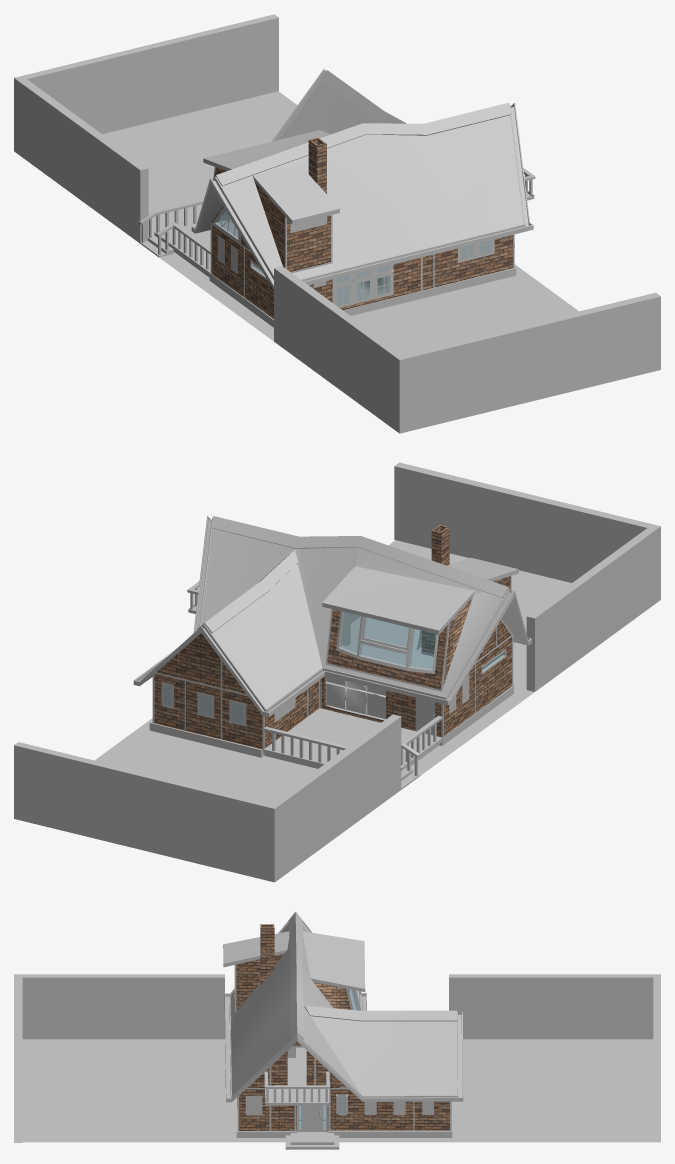
File: House-with-interior-1.FBX
The picture shows the model from 3 angles, top to bottom: view 1: azimuth 30°, elevation 25°; view 2: azimuth 150°, elevation 25°; view 3: azimuth 270°, elevation 25°; orthographic projection. The views are drawn at different scales.
Visible parts, largest first — view 1: Plane001, Interior_House-1; view 2: Plane001, Interior_House-1; view 3: Plane001, Interior_House-1, Door-002.
Part boxes in pixels (x1=…): Plane001: x1=14, y1=14, x2=660, y2=433; Interior_House-1: x1=139, y1=69, x2=535, y2=327; Plane001: x1=14, y1=462, x2=660, y2=882; Interior_House-1: x1=133, y1=516, x2=531, y2=789; Plane001: x1=14, y1=974, x2=660, y2=1142; Interior_House-1: x1=223, y1=911, x2=463, y2=1149; Door-002: x1=303, y1=1105, x2=321, y2=1131.
Size of the model in its own units: 53421 by 27365 by 116274.
